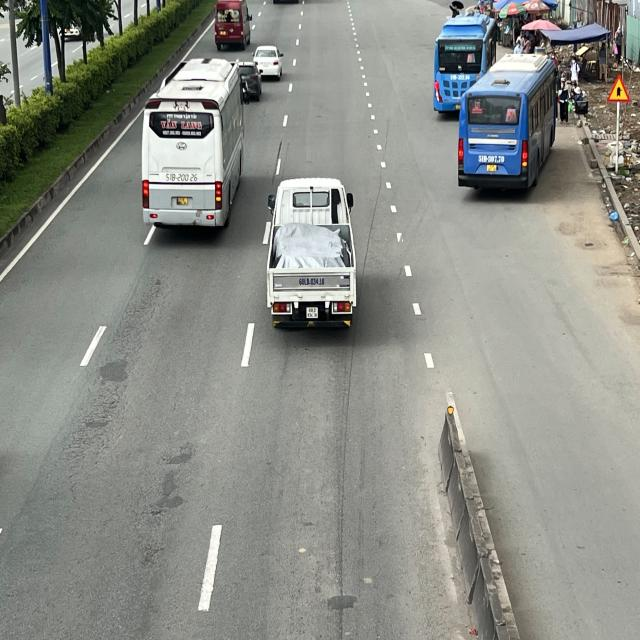car: (253, 46, 284, 80)
coach: (143, 57, 244, 230), (460, 53, 560, 193), (433, 14, 498, 115)
truck: (265, 178, 356, 327)
van: (216, 1, 252, 48)
